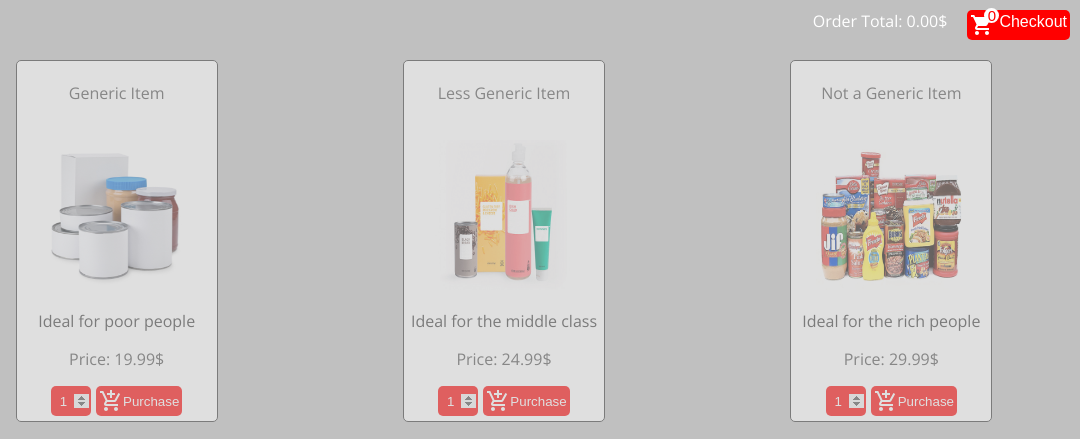
Scenario: Add single item to cart › adds one item to cart
Click the button "Purchase" below "19.99$" at (139, 401), box [96, 386, 182, 416]
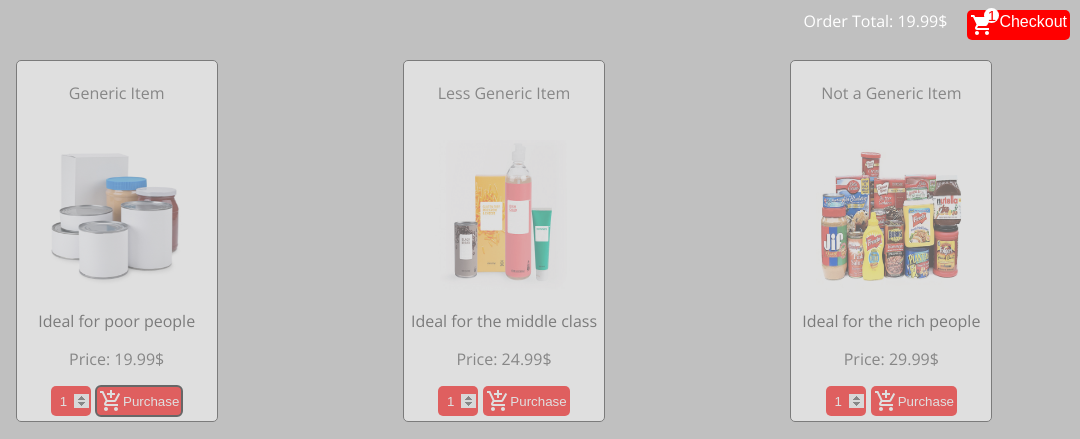
Now the icon with test id "quant" reads "1", box [988, 7, 996, 24]
